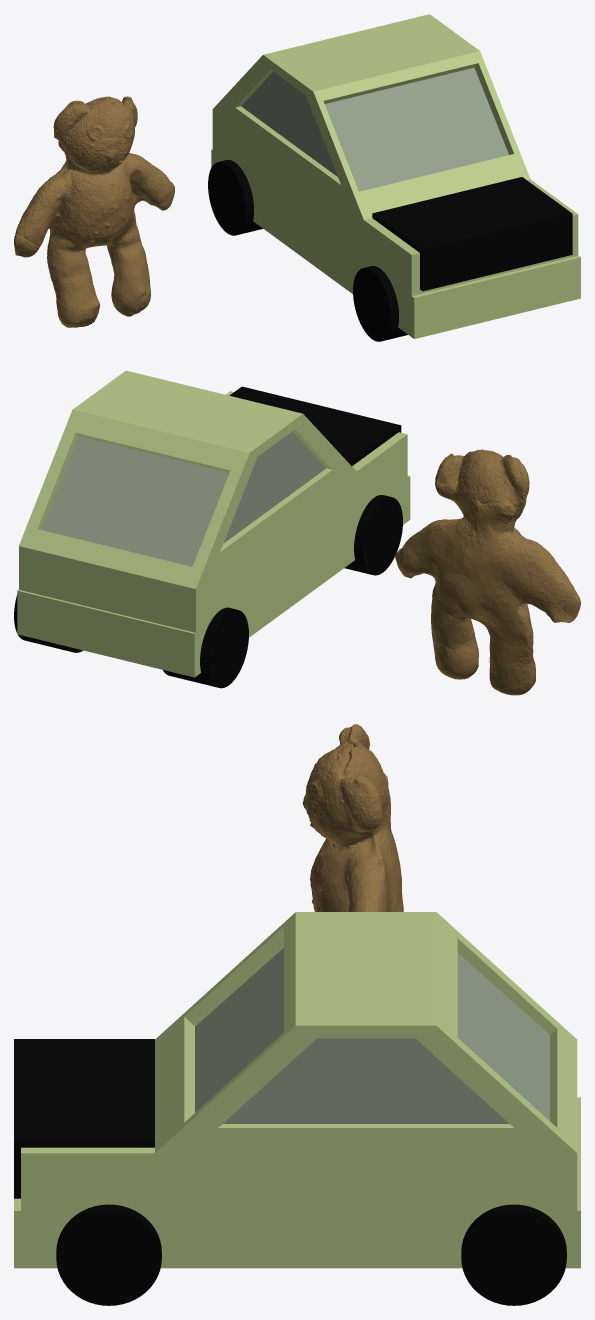
File: tinker_teddy.glb
3 renders of one model, top to bottom at view 1: azimuth 30°, elevation 25°; view 2: azimuth 150°, elevation 25°; view 3: azimuth 270°, elevation 25°, orthographic. The views are drawn at different scales.
Parts seen in each view (by area): view 1: Mesh_Mesh_head_geo.001_lambert2SG.001; view 2: Mesh_Mesh_head_geo.001_lambert2SG.001; view 3: Mesh_Mesh_head_geo.001_lambert2SG.001.
Boxes of the visible parts, x1,y1,x2,y2 form: Mesh_Mesh_head_geo.001_lambert2SG.001: (14, 14, 580, 341); Mesh_Mesh_head_geo.001_lambert2SG.001: (14, 370, 580, 695); Mesh_Mesh_head_geo.001_lambert2SG.001: (14, 724, 580, 1305).
Bounding box in the file's own units: 0.1042 × 0.0493 × 0.0805.
